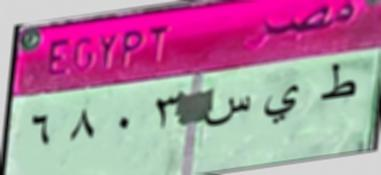0: (111, 106, 134, 141)
3: (153, 80, 184, 133)
6: (29, 108, 58, 150)
8: (68, 101, 98, 144)
Taa: (320, 58, 359, 112)
seen: (198, 90, 258, 128)
yaa: (259, 80, 305, 134)
